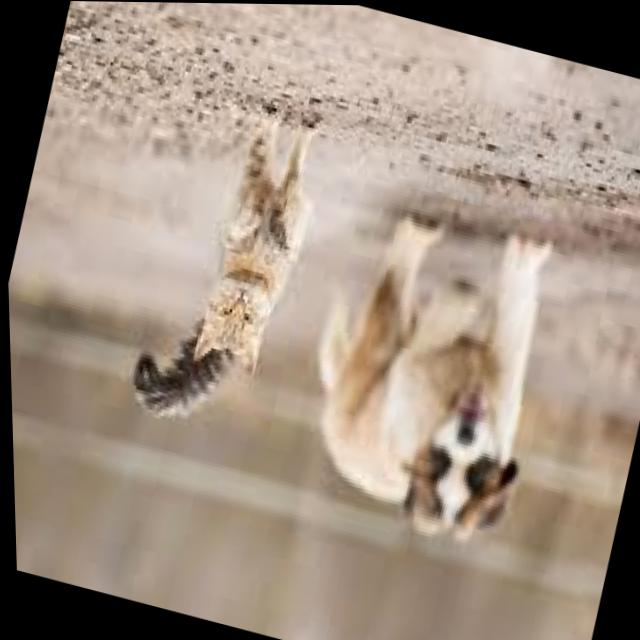Cat: (147, 134, 322, 414)
Dog: (290, 220, 598, 558)
